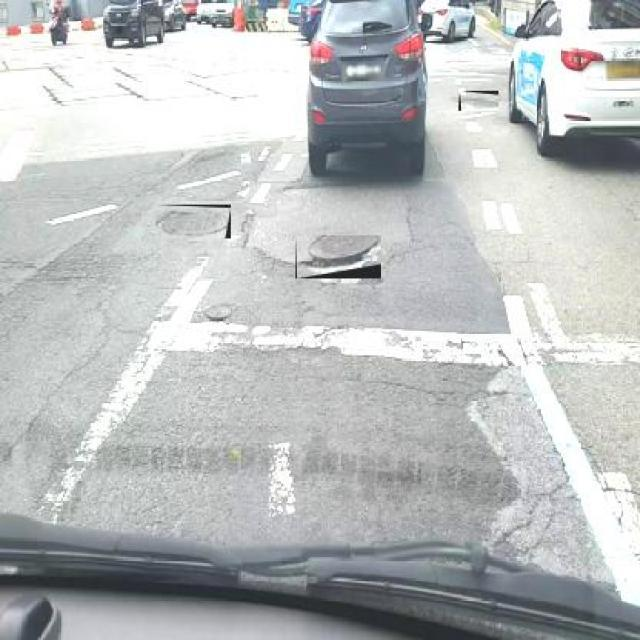Manhole: (295, 236, 380, 279), (155, 204, 231, 238), (458, 91, 500, 111), (202, 302, 237, 322)
